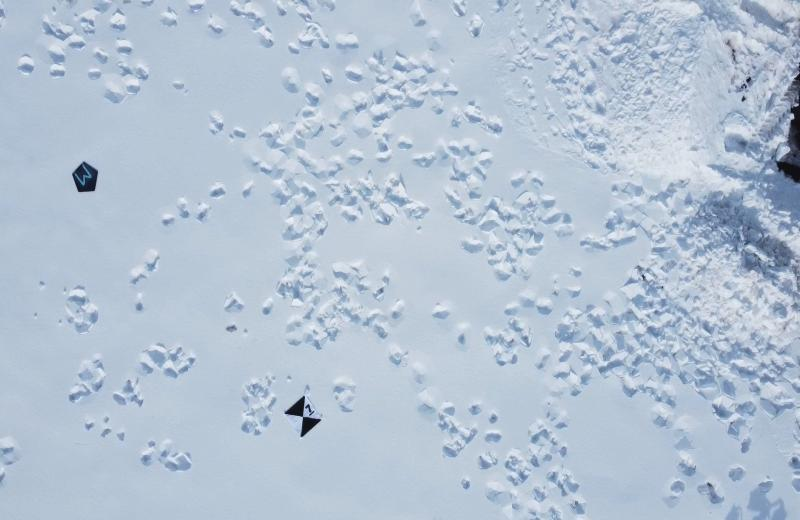Pentagon: (66, 154, 101, 198)
